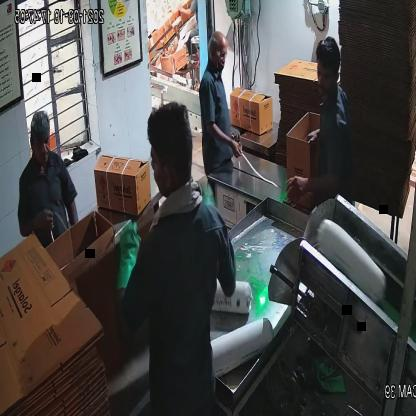glove: (108, 216, 145, 312)
no_glove: (277, 157, 348, 214), (202, 118, 246, 170), (24, 196, 58, 245)
